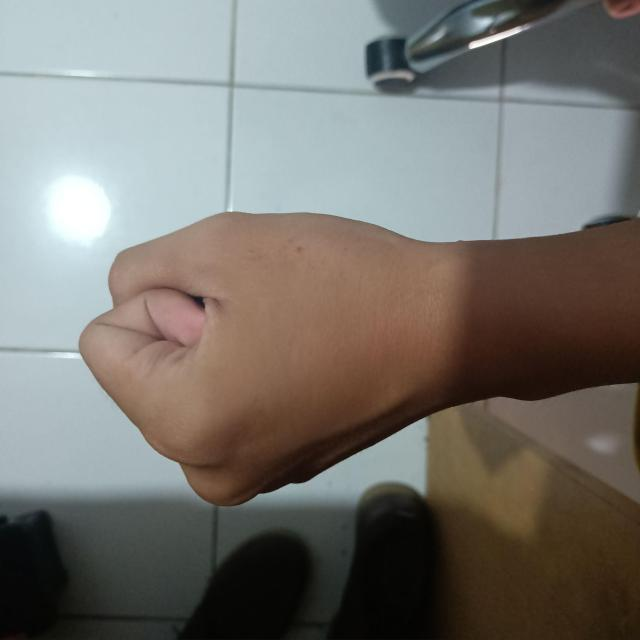fist: (61, 204, 466, 519)
